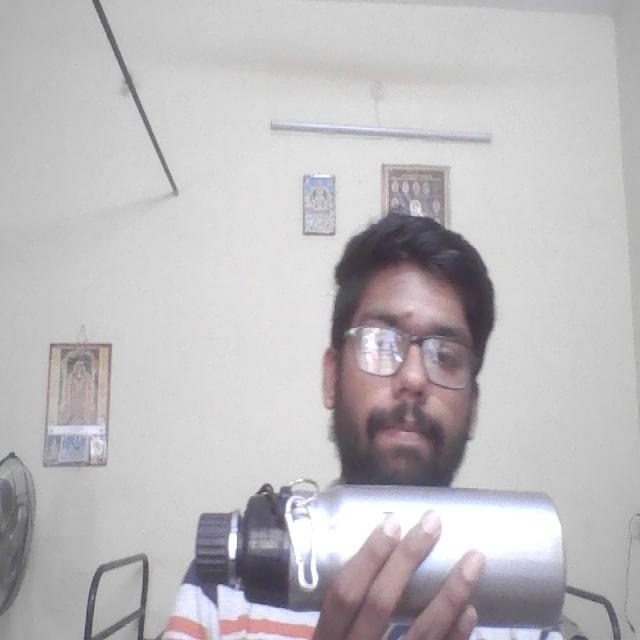Drinking: (191, 472, 571, 627)
